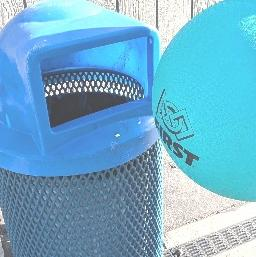algae: (149, 0, 256, 198)
